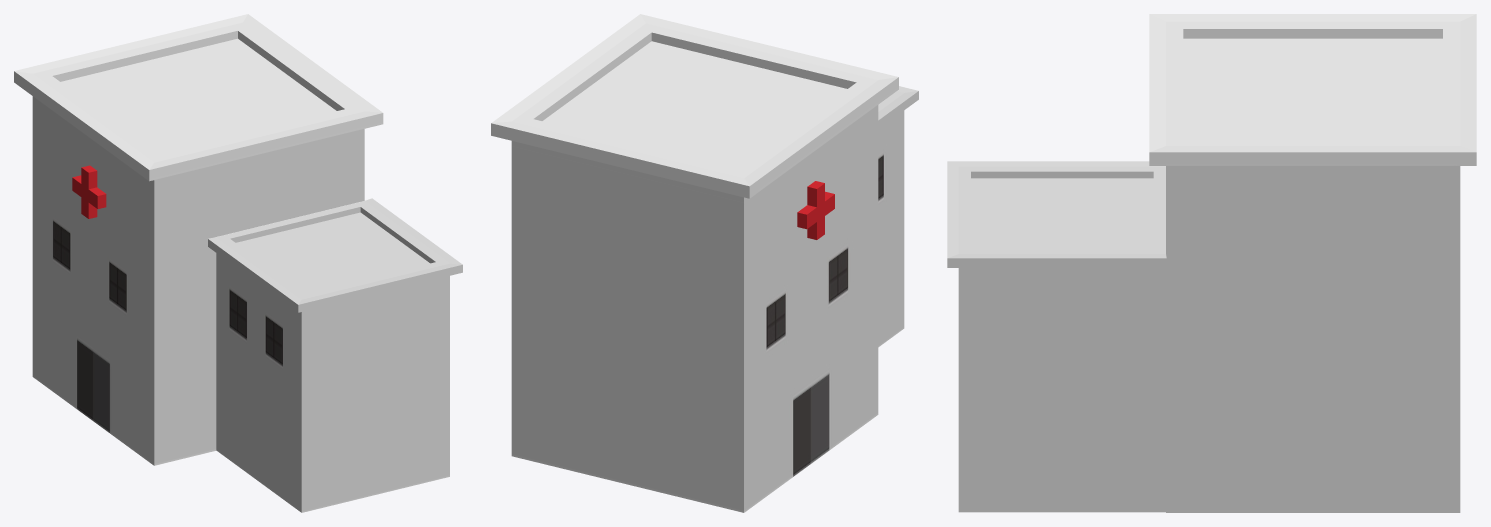
Rendered from cube_material.005_0_lev1.glb.
3 renders of one model, left to right at view 1: azimuth 30°, elevation 25°; view 2: azimuth 150°, elevation 25°; view 3: azimuth 270°, elevation 25°, orthographic. The views are drawn at different scales.
Parts seen in each view (by area): view 1: cube_material.005_0_lev1; view 2: cube_material.005_0_lev1; view 3: cube_material.005_0_lev1.
Boxes of the visible parts, x1,y1,x2,y2 form: cube_material.005_0_lev1: (14, 14, 462, 512); cube_material.005_0_lev1: (491, 14, 918, 512); cube_material.005_0_lev1: (947, 14, 1476, 512).
Bounding box in the file's own units: 0.6346 × 0.7865 × 1.03.
Materials: 1 (1 with a texture image).
